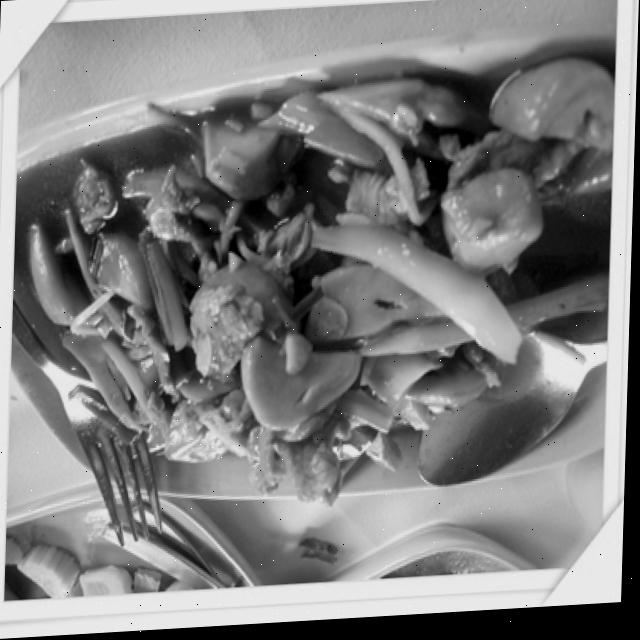牛肉菜式: (28, 45, 595, 532)
